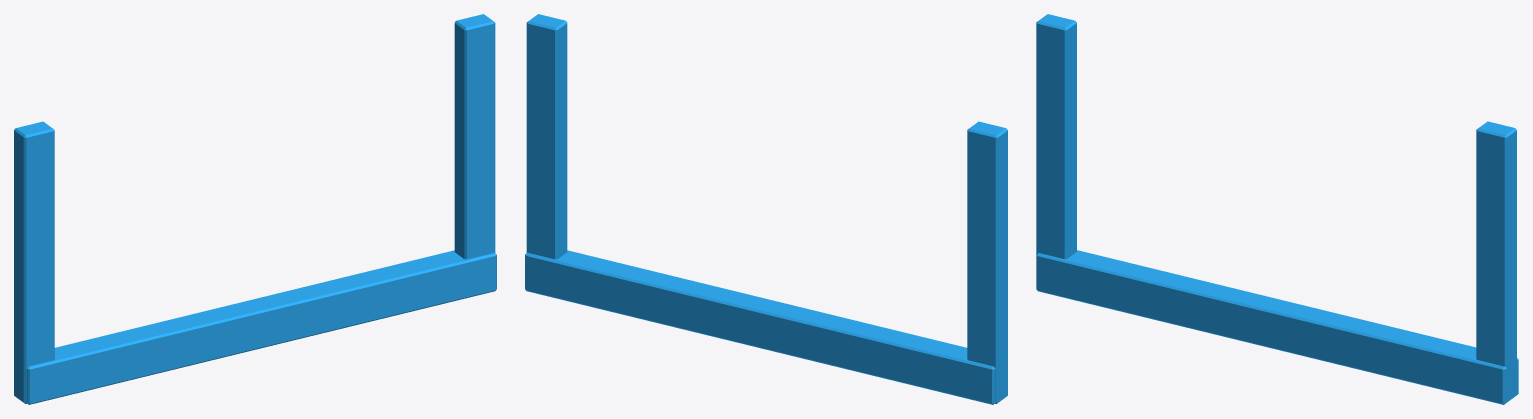
The model's file is 3D_GateTrap.fbx.
The picture shows the model from 3 angles, left to right: view 1: azimuth 30°, elevation 25°; view 2: azimuth 150°, elevation 25°; view 3: azimuth 330°, elevation 25°; orthographic projection.
Parts seen in each view (by area): view 1: 3D_GateTrap; view 2: 3D_GateTrap; view 3: 3D_GateTrap.
Boxes of the visible parts, left/top/right/bottom form: 3D_GateTrap: left=14, top=14, right=496, bottom=404; 3D_GateTrap: left=525, top=14, right=1007, bottom=404; 3D_GateTrap: left=1036, top=14, right=1518, bottom=404.
Size of the model in its own units: 325 by 177 by 18.21.
